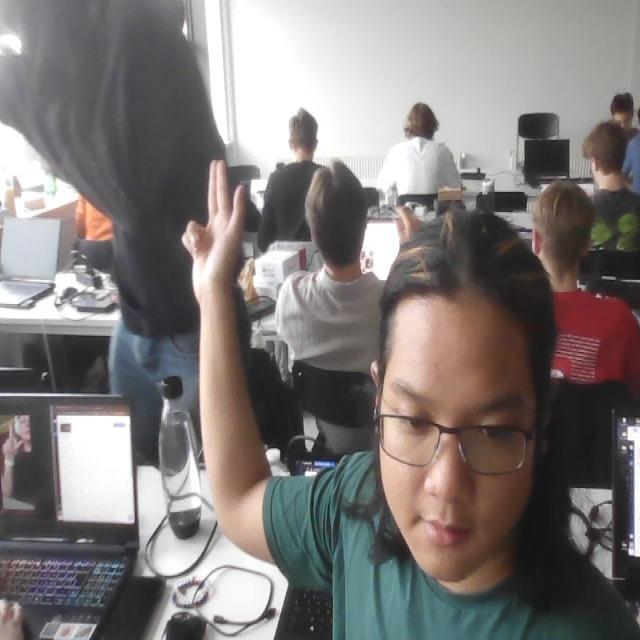opened_eye: (389, 404, 436, 435), (475, 416, 520, 445)
